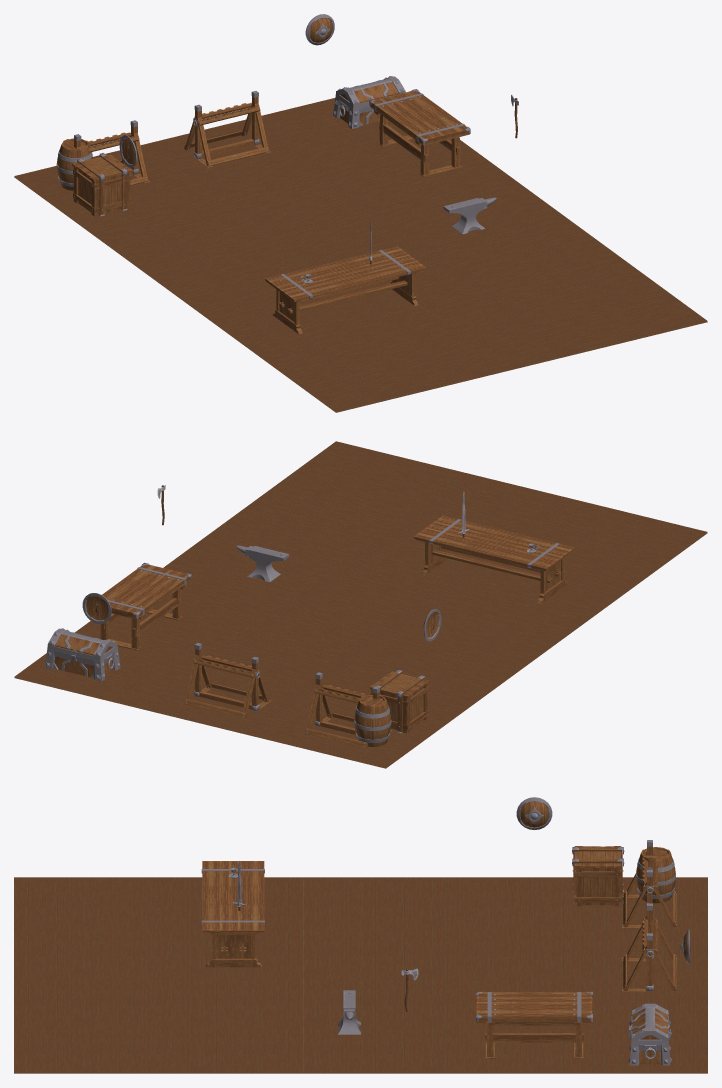
The model's file is shop_weapon_in.gltf.
The picture shows the model from 3 angles, top to bottom: view 1: azimuth 30°, elevation 25°; view 2: azimuth 150°, elevation 25°; view 3: azimuth 270°, elevation 25°; orthographic projection. The views are drawn at different scales.
Parts seen in each view (by area): view 1: shop_weapon_in; view 2: shop_weapon_in; view 3: shop_weapon_in.
Part boxes in pixels (x1,y1,x2,y2): shop_weapon_in: (14,14,707,412); shop_weapon_in: (14,441,707,768); shop_weapon_in: (14,797,707,1073).
Bounding box in the file's own units: 8 × 2.06 × 12.
Materials: 6 (6 with a texture image).
